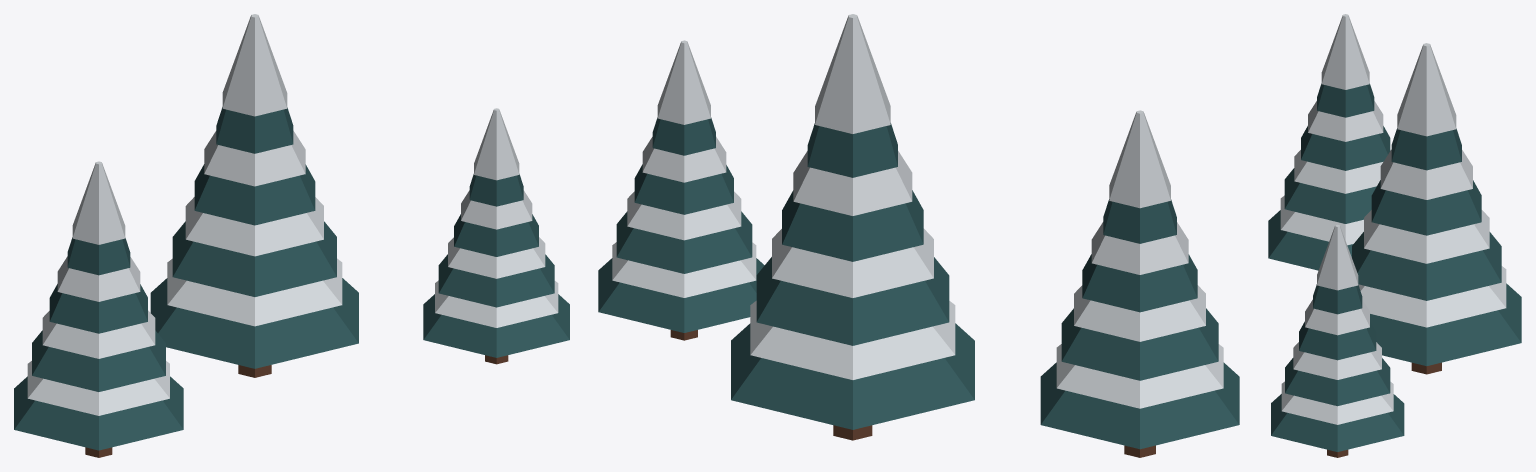
Rendered from Frosty_SnowyPineGrove_Simple.glb.
The picture shows the model from 3 angles, left to right: view 1: azimuth 30°, elevation 25°; view 2: azimuth 150°, elevation 25°; view 3: azimuth 270°, elevation 25°; orthographic projection. The views are drawn at different scales.
Parts seen in each view (by area): view 1: Frosty_SnowyPineGrove_Simple; view 2: Frosty_SnowyPineGrove_Simple; view 3: Frosty_SnowyPineGrove_Simple.
Part boxes in pixels (bbox=[...]): Frosty_SnowyPineGrove_Simple: bbox=[14, 14, 569, 457]; Frosty_SnowyPineGrove_Simple: bbox=[598, 14, 1239, 457]; Frosty_SnowyPineGrove_Simple: bbox=[1268, 14, 1521, 457].
Bounding box in the file's own units: 7.15 × 4.39 × 3.12.
